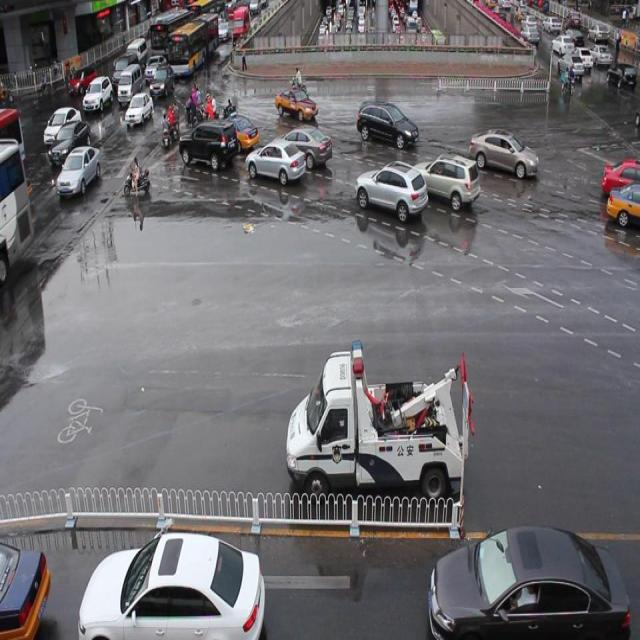bus: (285, 338, 464, 498)
car: (354, 162, 427, 224), (409, 151, 479, 210), (466, 126, 538, 180), (355, 99, 417, 150), (245, 136, 306, 185), (269, 124, 332, 170), (604, 179, 640, 230), (213, 114, 259, 152), (600, 159, 640, 199), (274, 86, 318, 121)
truck: (179, 118, 237, 168)
